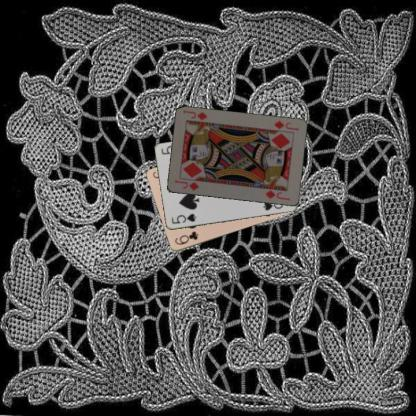5s: (169, 211, 197, 225)
6c: (172, 229, 200, 246)
Jd: (172, 177, 200, 192), (271, 118, 299, 132)
